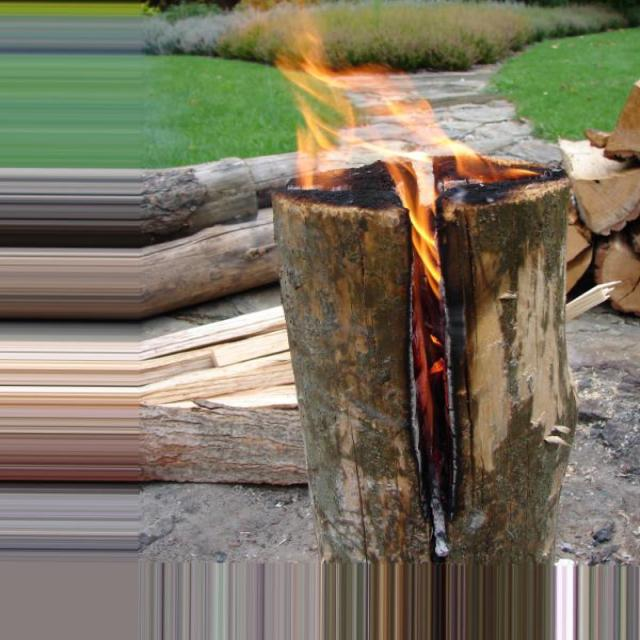fire: (267, 26, 565, 521)
